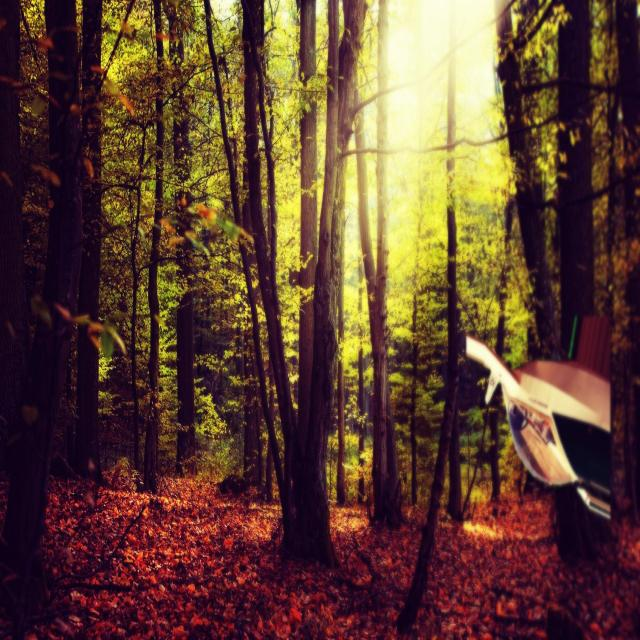airplane: (464, 314, 612, 522)
